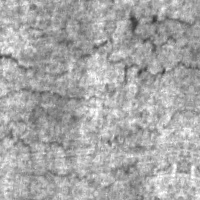crazing: (0, 0, 197, 119), (0, 127, 167, 191)
